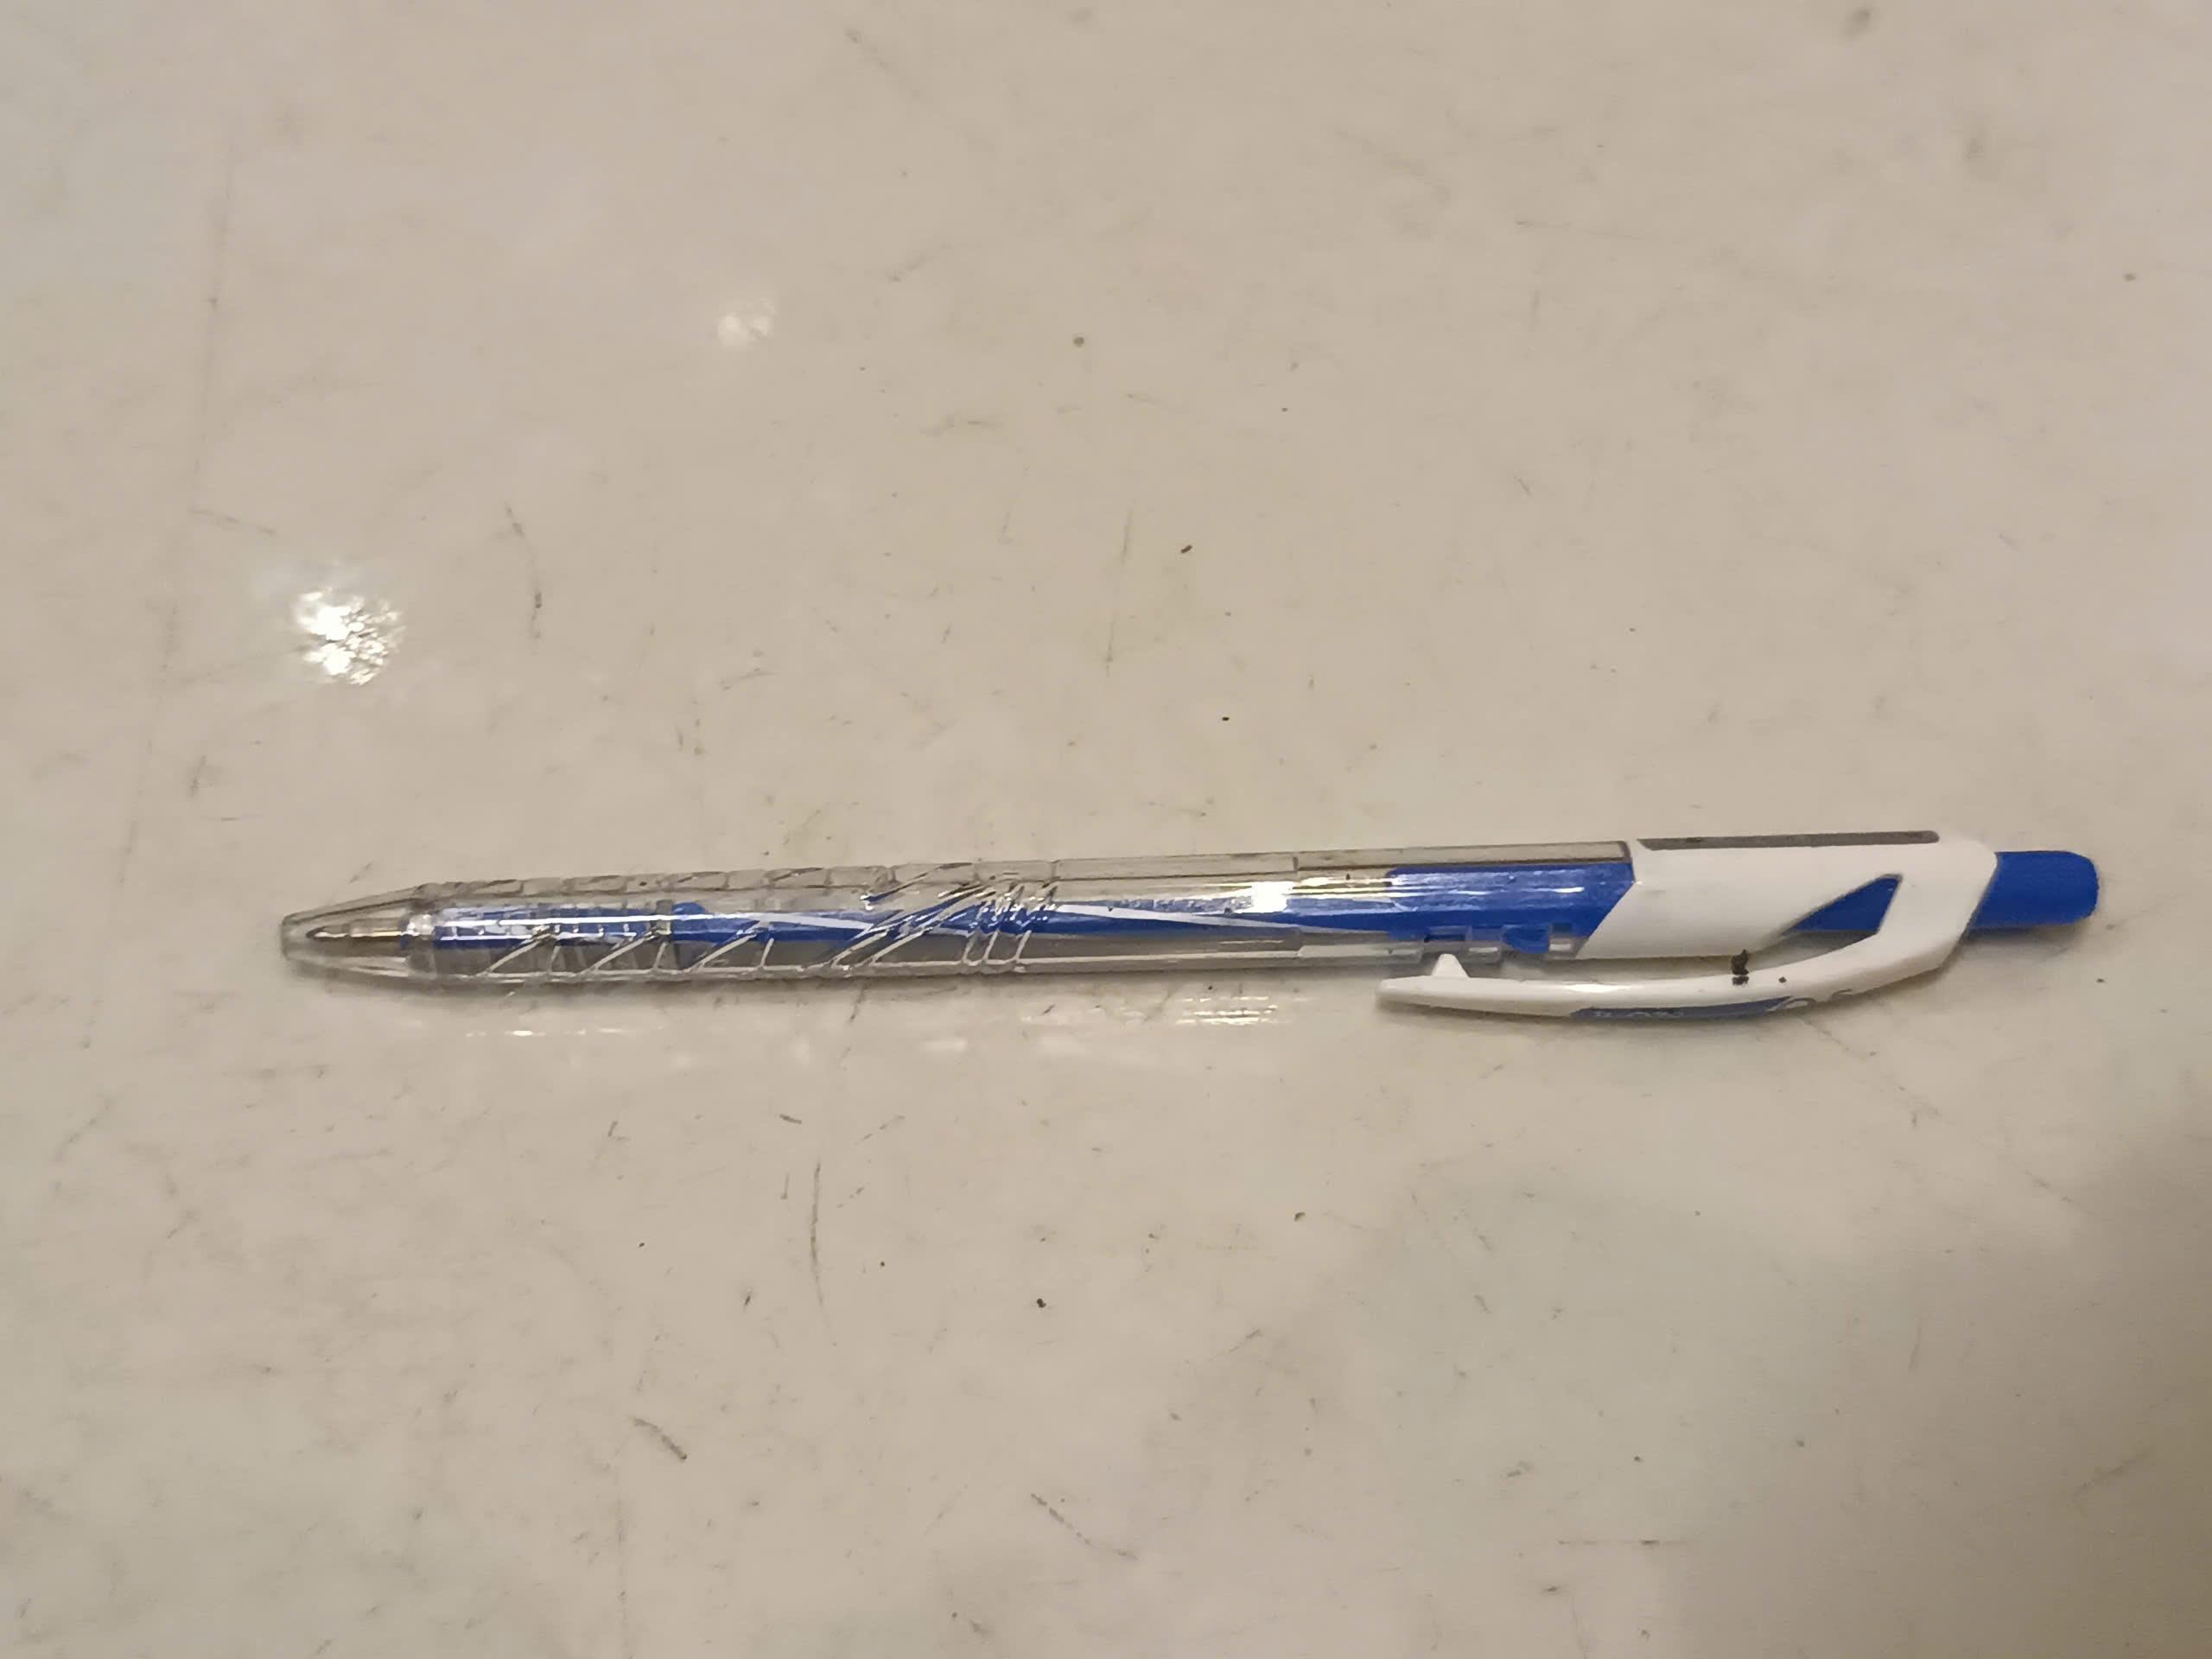Con lai: (279, 829, 2099, 1026)
